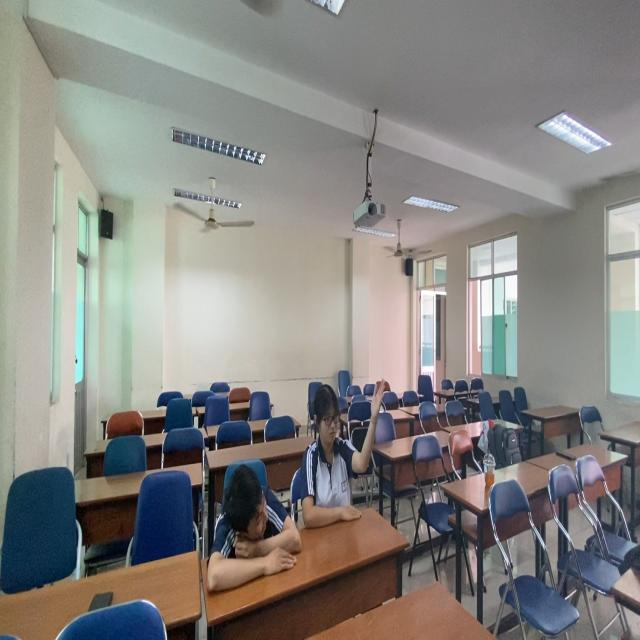raise_hand: (304, 362, 386, 517)
sleep: (203, 458, 299, 592)
